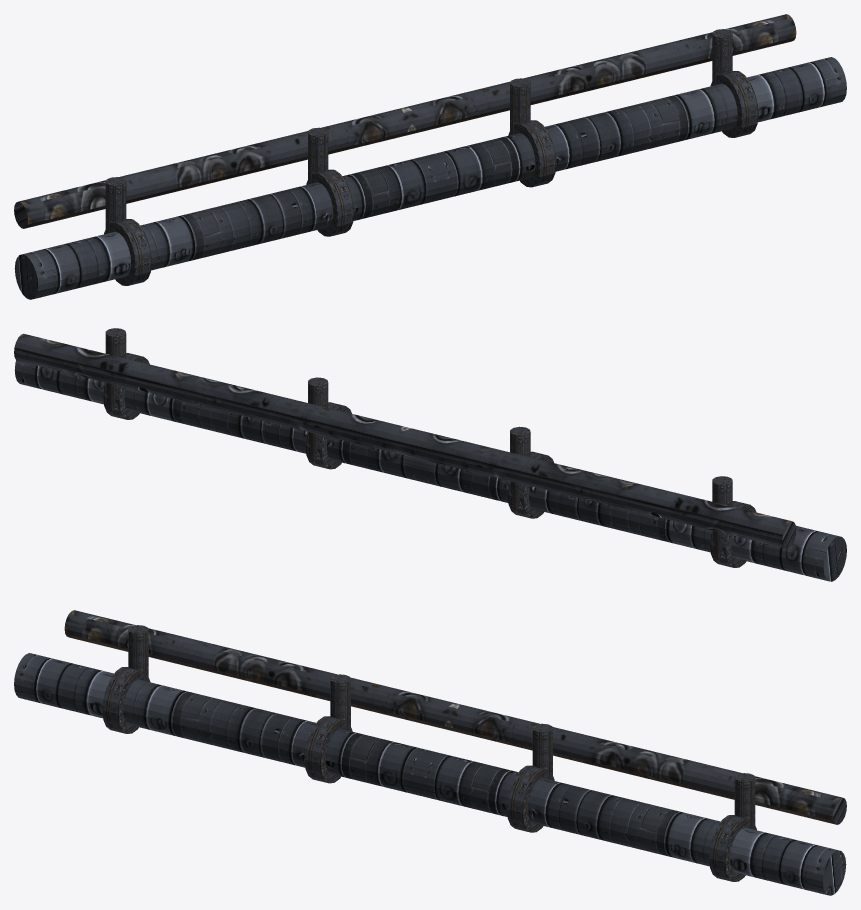
The model's file is prop_pipe_run.glb.
3 renders of one model, top to bottom at view 1: azimuth 30°, elevation 25°; view 2: azimuth 150°, elevation 25°; view 3: azimuth 330°, elevation 25°, orthographic.
Parts seen in each view (by area): view 1: main, upper, flange_1, flange_3, flange_2, flange_0, bracket_0, bracket_2, bracket_3, bracket_1; view 2: upper, main, bracket_3, bracket_0, bracket_1, bracket_2, flange_1, flange_0, flange_2, flange_3; view 3: main, upper, flange_0, flange_2, flange_1, flange_3, bracket_3, bracket_1, bracket_0, bracket_2.
Boxes of the visible parts, x1=… form: main: x1=14, y1=57, x2=846, y2=299; upper: x1=14, y1=14, x2=796, y2=228; flange_1: x1=306, y1=169, x2=354, y2=236; flange_3: x1=710, y1=71, x2=758, y2=137; flange_2: x1=508, y1=120, x2=556, y2=187; flange_0: x1=104, y1=219, x2=151, y2=285; bracket_0: x1=105, y1=177, x2=126, y2=233; bracket_2: x1=510, y1=78, x2=530, y2=135; bracket_3: x1=712, y1=29, x2=732, y2=85; bracket_1: x1=308, y1=127, x2=328, y2=184; upper: x1=14, y1=333, x2=796, y2=548; main: x1=14, y1=360, x2=846, y2=581; bracket_3: x1=105, y1=328, x2=126, y2=410; bracket_0: x1=712, y1=476, x2=732, y2=558; bracket_1: x1=510, y1=426, x2=530, y2=509; bracket_2: x1=308, y1=377, x2=328, y2=460; flange_1: x1=507, y1=451, x2=553, y2=518; flange_0: x1=709, y1=501, x2=756, y2=567; flange_2: x1=305, y1=402, x2=351, y2=469; flange_3: x1=103, y1=353, x2=149, y2=419; main: x1=14, y1=653, x2=846, y2=895; upper: x1=64, y1=610, x2=846, y2=824; flange_0: x1=102, y1=667, x2=150, y2=733; flange_2: x1=506, y1=765, x2=554, y2=832; flange_1: x1=304, y1=716, x2=352, y2=783; flange_3: x1=709, y1=815, x2=756, y2=881; bracket_3: x1=734, y1=773, x2=755, y2=829; bracket_1: x1=330, y1=674, x2=350, y2=731; bracket_0: x1=128, y1=625, x2=148, y2=681; bracket_2: x1=532, y1=723, x2=552, y2=780.
Bounding box in the file's own units: 4 × 0.4329 × 0.42.
2 materials, 2 textured.
